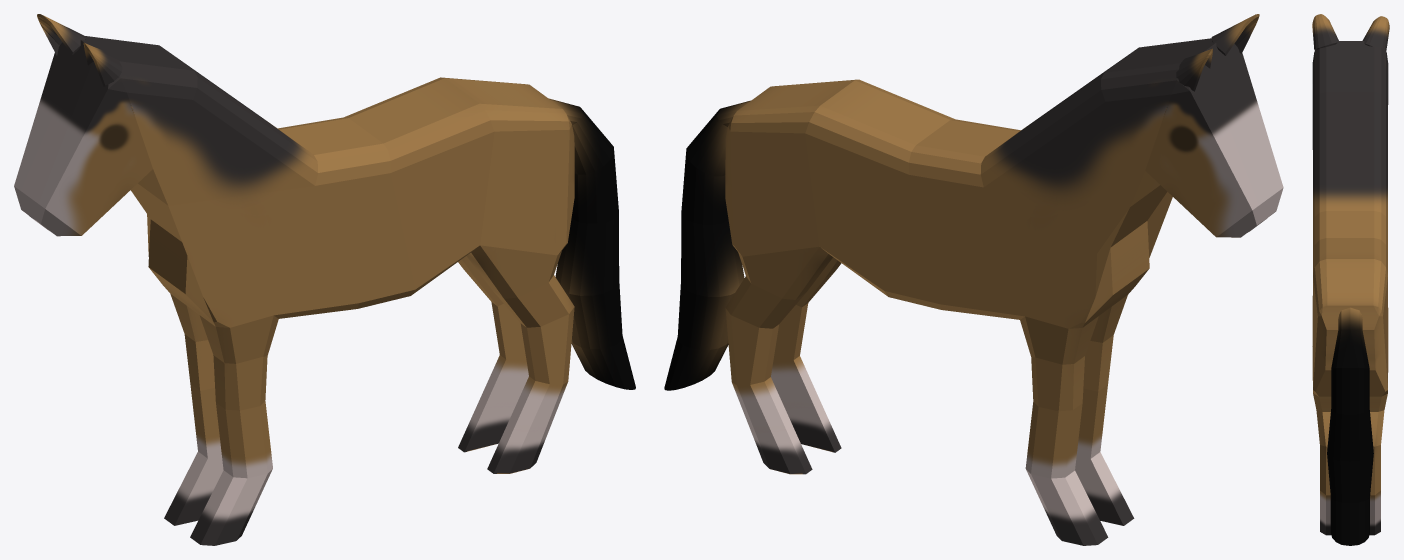
File: cavalinho.fbx
3 renders of one model, left to right at view 1: azimuth 30°, elevation 25°; view 2: azimuth 150°, elevation 25°; view 3: azimuth 270°, elevation 25°, orthographic. The views are drawn at different scales.
Parts seen in each view (by area): view 1: cavalinhoNormal; view 2: cavalinhoNormal; view 3: cavalinhoNormal.
Boxes of the visible parts, x1,y1,x2,y2 form: cavalinhoNormal: [14, 14, 635, 545]; cavalinhoNormal: [664, 14, 1283, 545]; cavalinhoNormal: [1312, 14, 1389, 545].
Bounding box in the file's own units: 99.06 × 83.97 × 16.02.
1 material, 1 textured.
